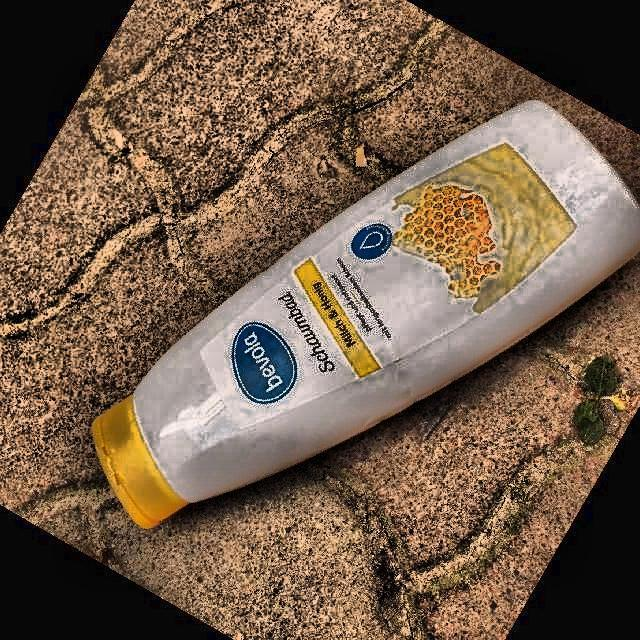plastic: (95, 101, 640, 528)
